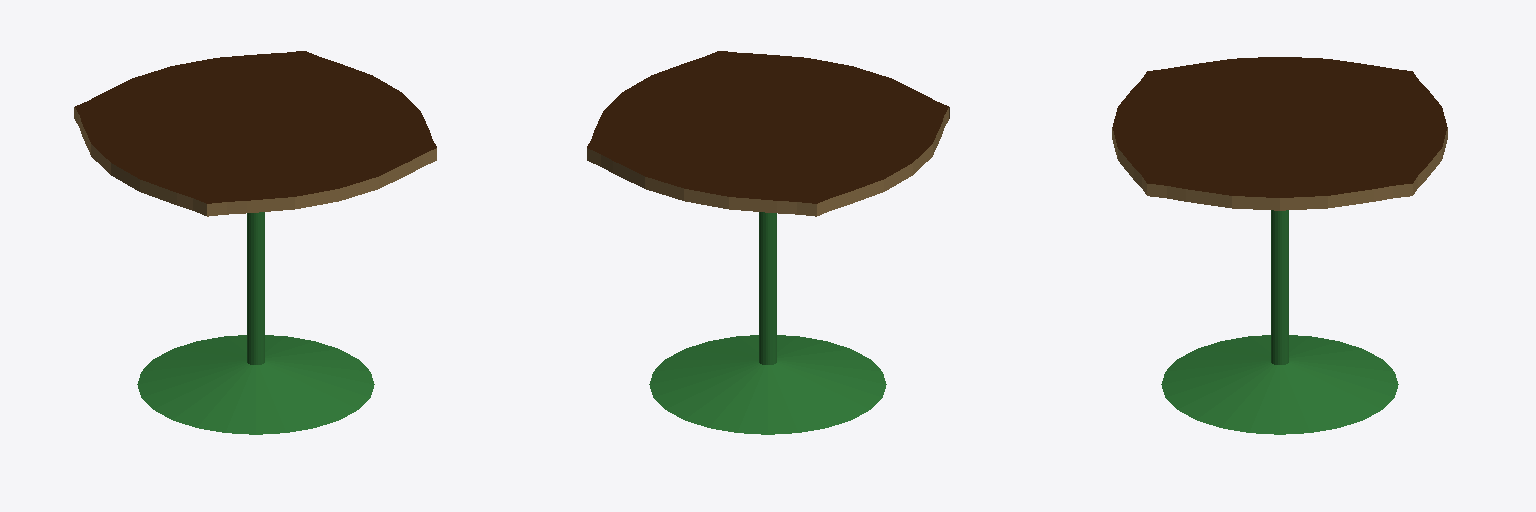
3 renders of one model, left to right at view 1: azimuth 30°, elevation 25°; view 2: azimuth 150°, elevation 25°; view 3: azimuth 270°, elevation 25°, orthographic.
Visible parts, largest first — view 1: Mesh1 Top_Flower Cafe_Table1 Model, Mesh2 Base_Round Cafe_Table1 Model; view 2: Mesh1 Top_Flower Cafe_Table1 Model, Mesh2 Base_Round Cafe_Table1 Model; view 3: Mesh1 Top_Flower Cafe_Table1 Model, Mesh2 Base_Round Cafe_Table1 Model.
Part boxes in pixels (x1,y1,x2,y2): Mesh1 Top_Flower Cafe_Table1 Model: (74, 51, 436, 216); Mesh2 Base_Round Cafe_Table1 Model: (137, 212, 374, 434); Mesh1 Top_Flower Cafe_Table1 Model: (587, 51, 949, 216); Mesh2 Base_Round Cafe_Table1 Model: (649, 212, 886, 434); Mesh1 Top_Flower Cafe_Table1 Model: (1112, 57, 1447, 210); Mesh2 Base_Round Cafe_Table1 Model: (1161, 210, 1398, 434).
Bounding box in the file's own units: 0.9144 × 0.7747 × 0.9144.